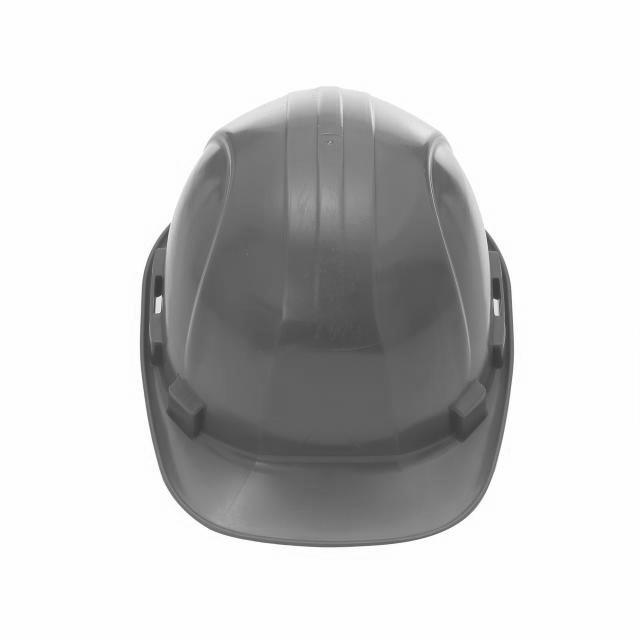construction helmet: (138, 92, 515, 549)
